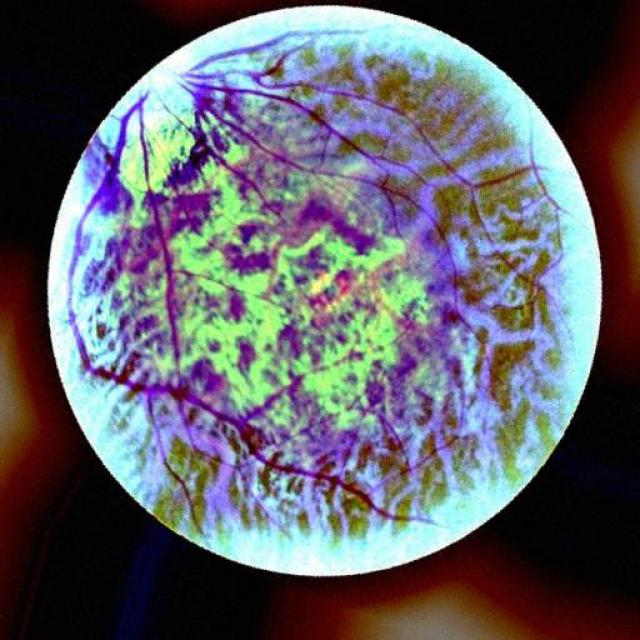Macula: (284, 192, 365, 248)
Nerves: (69, 109, 138, 395), (170, 24, 374, 81), (188, 96, 213, 165)
Optic Disk: (99, 33, 224, 163)
